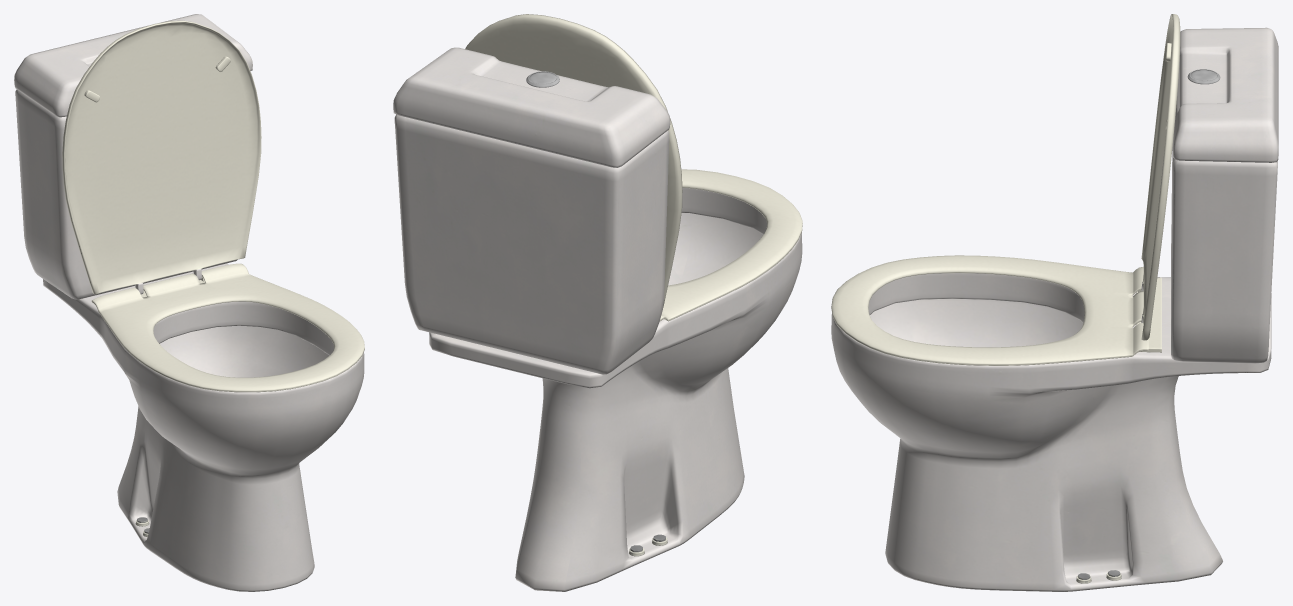
3 renders of one model, left to right at view 1: azimuth 30°, elevation 25°; view 2: azimuth 150°, elevation 25°; view 3: azimuth 270°, elevation 25°, orthographic. The views are drawn at different scales.
Parts seen in each view (by area): view 1: 10778_Toilet_V2; view 2: 10778_Toilet_V2; view 3: 10778_Toilet_V2.
Boxes of the visible parts, <box> form: 10778_Toilet_V2: <box>14,14,364,591</box>; 10778_Toilet_V2: <box>393,14,802,591</box>; 10778_Toilet_V2: <box>831,14,1278,591</box>.
Size of the model in its own units: 1.76 by 4.07 by 3.07.
Materials: 1 (1 with a texture image).
